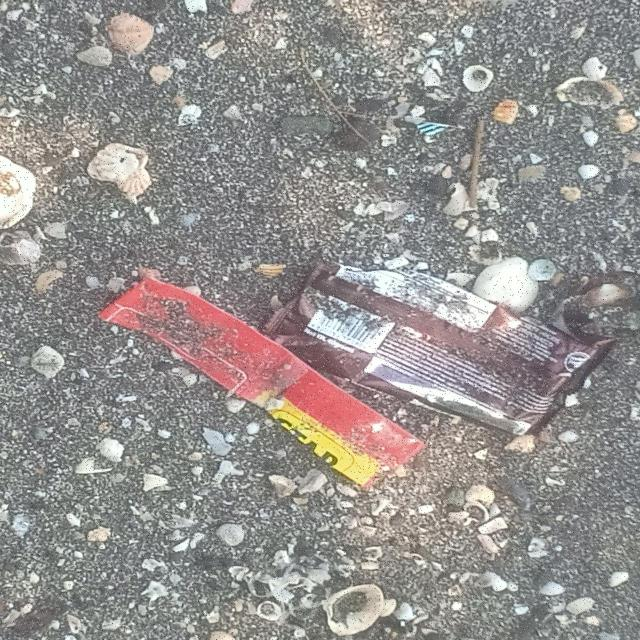plastic_waste: (97, 263, 429, 492), (260, 258, 621, 441)
